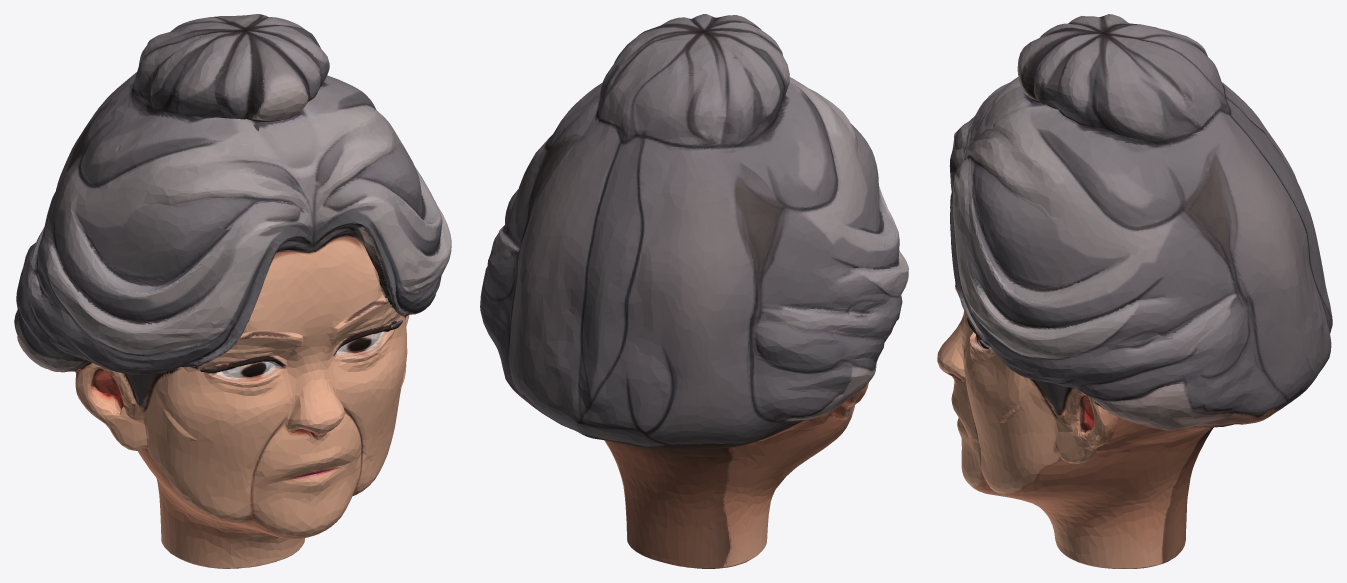
The model's file is side_jadeclerk_repaired_atlas.glb.
The picture shows the model from 3 angles, left to right: view 1: azimuth 30°, elevation 25°; view 2: azimuth 150°, elevation 25°; view 3: azimuth 270°, elevation 25°; orthographic projection. The views are drawn at different scales.
Visible parts, largest first — view 1: temp_mesh.ply; view 2: temp_mesh.ply; view 3: temp_mesh.ply.
Boxes of the visible parts, x1,y1,x2,y2 form: temp_mesh.ply: (14,14,451,568); temp_mesh.ply: (480,14,908,568); temp_mesh.ply: (937,14,1332,568).
Bounding box in the file's own units: 1.54 × 1.97 × 1.39.
1 material, 1 textured.
